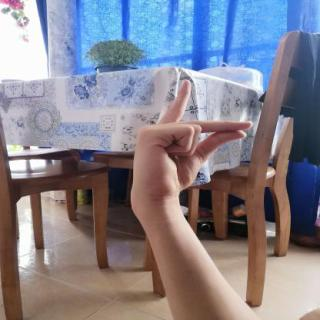TAA: (121, 73, 262, 210)
